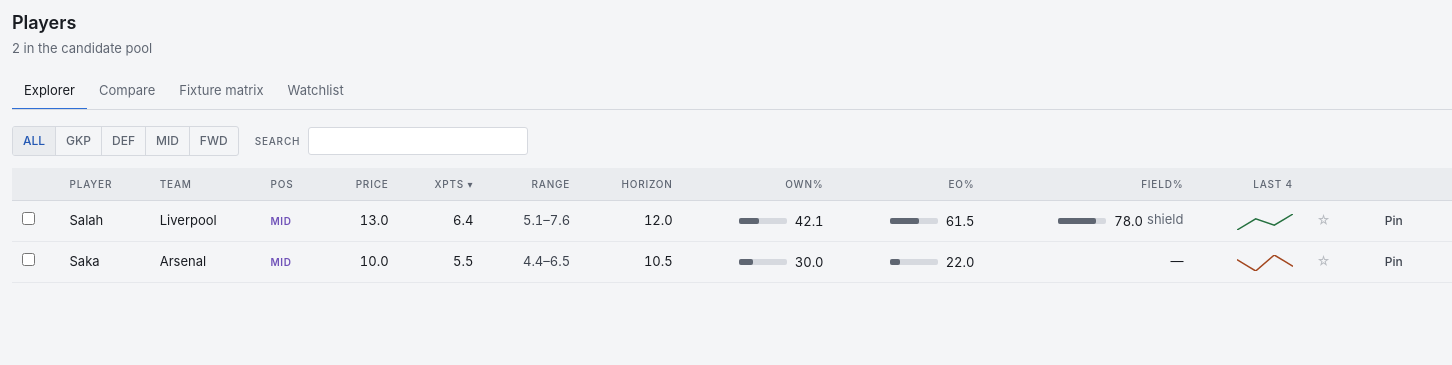
Test case: Players hub › offers the run instead of loading for ever when advice is missing
expect the button "Salah" is shown: met, box x1=70 y1=211 x2=103 y2=230
Click the tab "Compare" at coordinates (127, 92), box x1=87 y1=73 x2=167 y2=110
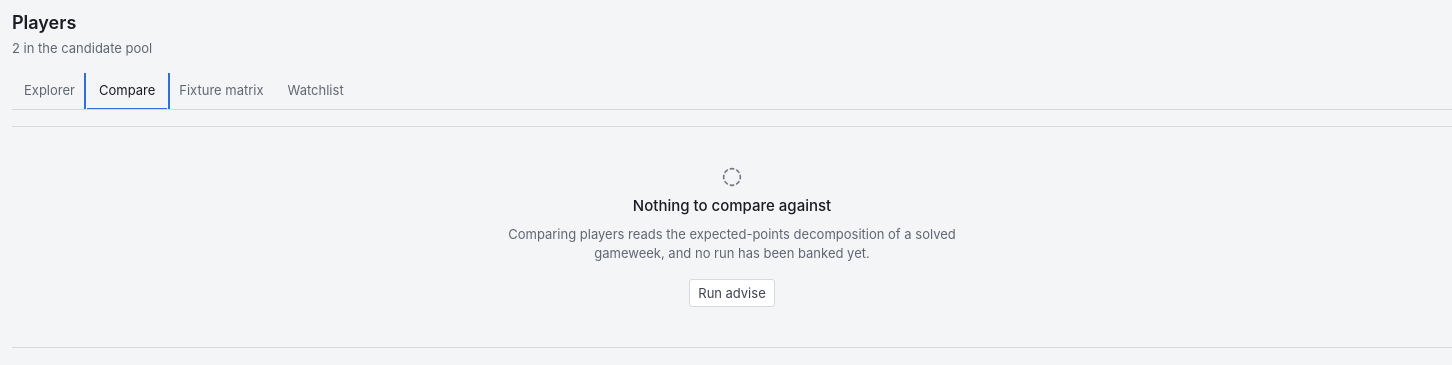
expect the element with test id "empty-state" shows "advise": met, box x1=698 y1=285 x2=766 y2=301
